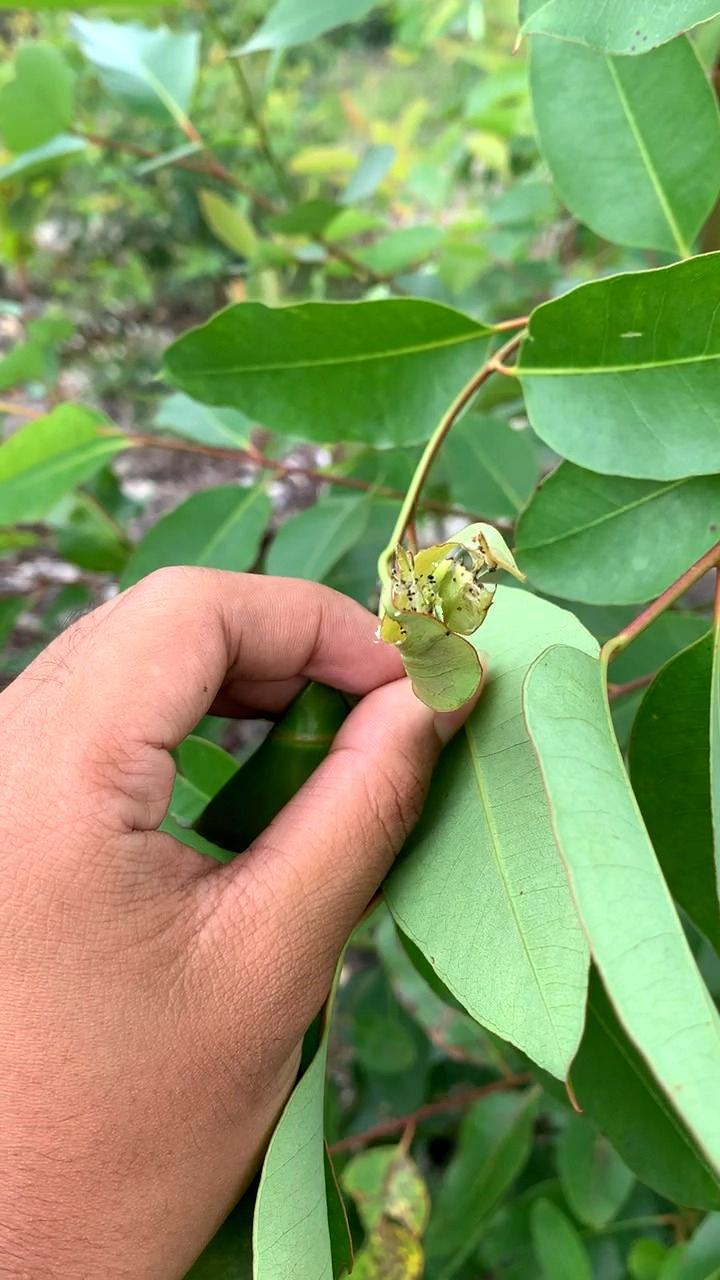Leaf Roller - Leaf: (326, 506, 561, 727)
